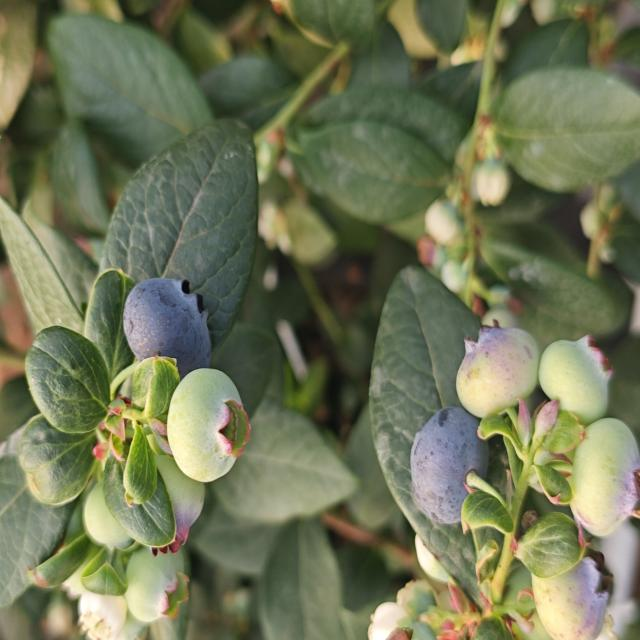ripe: (407, 404, 491, 530), (120, 274, 214, 382)
